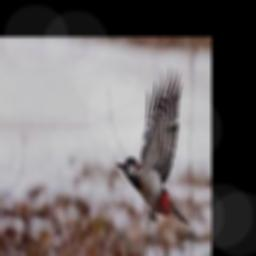Woodpecker: (115, 64, 189, 226)
